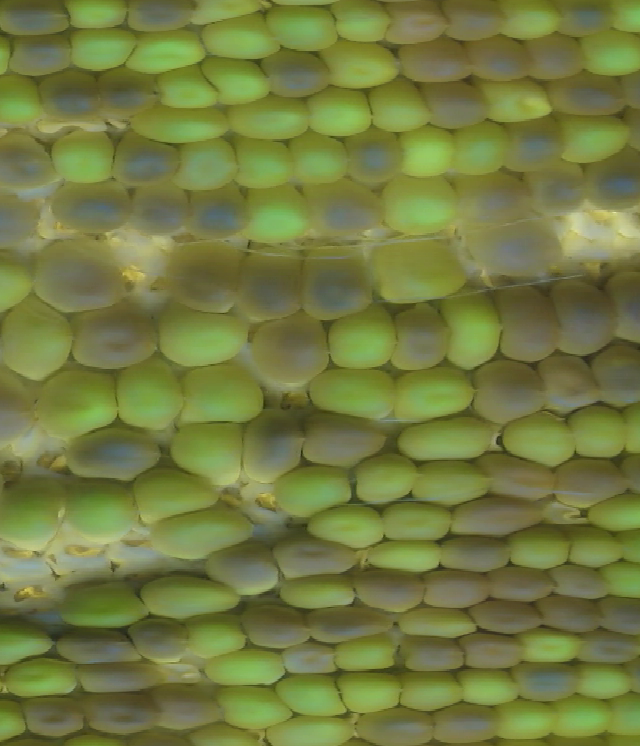fluorescent: (144, 298, 264, 375), (363, 232, 478, 311), (0, 288, 88, 387), (138, 501, 271, 564), (25, 364, 125, 441), (318, 297, 410, 380), (388, 404, 500, 472), (123, 459, 233, 528), (385, 357, 488, 429), (170, 361, 277, 430), (167, 415, 256, 496), (55, 472, 145, 552), (108, 349, 188, 438), (431, 285, 509, 376), (489, 404, 587, 476), (301, 361, 405, 428), (370, 169, 464, 241), (132, 570, 246, 627), (51, 575, 157, 633), (0, 473, 73, 557), (401, 453, 500, 513), (267, 456, 357, 521), (318, 34, 409, 94), (192, 49, 281, 110), (559, 398, 637, 467), (298, 499, 394, 555), (470, 72, 561, 131), (198, 639, 299, 692), (549, 108, 638, 168), (371, 495, 466, 551), (225, 129, 302, 198), (121, 22, 213, 79), (362, 73, 443, 137), (347, 442, 422, 511), (240, 184, 318, 249), (163, 136, 246, 197), (43, 124, 122, 188), (324, 663, 411, 721), (194, 9, 285, 64), (443, 114, 513, 185), (391, 118, 467, 182), (500, 520, 581, 580), (207, 680, 304, 730), (227, 93, 318, 146), (126, 102, 233, 147), (298, 83, 378, 143), (283, 125, 356, 190), (258, 2, 344, 57), (396, 601, 488, 652), (175, 606, 256, 663), (268, 670, 354, 723), (325, 626, 409, 680), (149, 58, 223, 118), (568, 24, 640, 85), (0, 652, 86, 703), (65, 21, 142, 77), (274, 568, 362, 616), (543, 689, 621, 743), (361, 533, 453, 578), (555, 519, 630, 574), (511, 623, 591, 674), (392, 666, 471, 716), (486, 696, 567, 744), (325, 1, 405, 49), (450, 662, 528, 710), (494, 1, 576, 46), (264, 709, 363, 746), (0, 67, 51, 136), (0, 239, 43, 319), (571, 489, 640, 538), (568, 657, 639, 704), (0, 617, 58, 672), (55, 1, 142, 34), (185, 1, 273, 30), (595, 556, 640, 608), (596, 689, 640, 741), (0, 691, 33, 746), (604, 522, 640, 572), (605, 1, 640, 44)
nonfluorescent: (483, 278, 576, 368), (31, 235, 128, 318), (243, 306, 335, 392), (65, 294, 162, 374), (464, 214, 573, 283), (294, 238, 378, 326), (57, 423, 171, 487), (162, 237, 249, 320), (540, 273, 623, 360), (222, 245, 311, 326), (235, 405, 314, 492), (464, 356, 553, 430), (294, 406, 396, 470), (298, 176, 391, 244), (470, 446, 566, 510), (545, 450, 640, 513), (532, 349, 613, 421), (47, 176, 142, 237), (103, 125, 190, 191), (449, 167, 541, 229), (199, 536, 285, 602), (266, 529, 369, 584), (442, 492, 552, 543), (385, 299, 456, 378), (51, 620, 153, 672), (498, 109, 571, 181), (255, 43, 339, 105), (390, 34, 483, 89), (176, 185, 257, 248), (71, 687, 167, 740), (120, 610, 198, 674), (341, 564, 431, 619), (119, 179, 197, 242), (543, 69, 632, 124), (458, 32, 541, 90), (432, 528, 523, 580), (141, 680, 227, 735), (413, 562, 500, 616), (339, 124, 412, 188), (410, 77, 496, 131), (33, 65, 106, 128), (92, 61, 164, 124), (521, 155, 593, 218), (300, 602, 401, 646), (239, 600, 318, 656), (574, 147, 640, 214), (349, 700, 445, 746), (69, 655, 169, 699), (0, 126, 62, 196), (371, 1, 456, 51), (0, 363, 44, 459), (0, 30, 80, 82), (507, 655, 587, 707), (532, 592, 615, 642), (584, 339, 640, 413), (519, 29, 591, 86), (426, 698, 510, 746), (463, 595, 548, 642), (11, 692, 90, 741), (539, 561, 621, 608), (480, 563, 567, 607), (435, 1, 517, 47), (597, 267, 640, 354), (0, 184, 48, 258), (118, 1, 204, 40), (456, 625, 528, 670), (0, 1, 79, 39), (552, 1, 623, 42), (276, 641, 347, 681), (574, 628, 640, 669), (592, 592, 640, 641), (609, 60, 640, 116)
